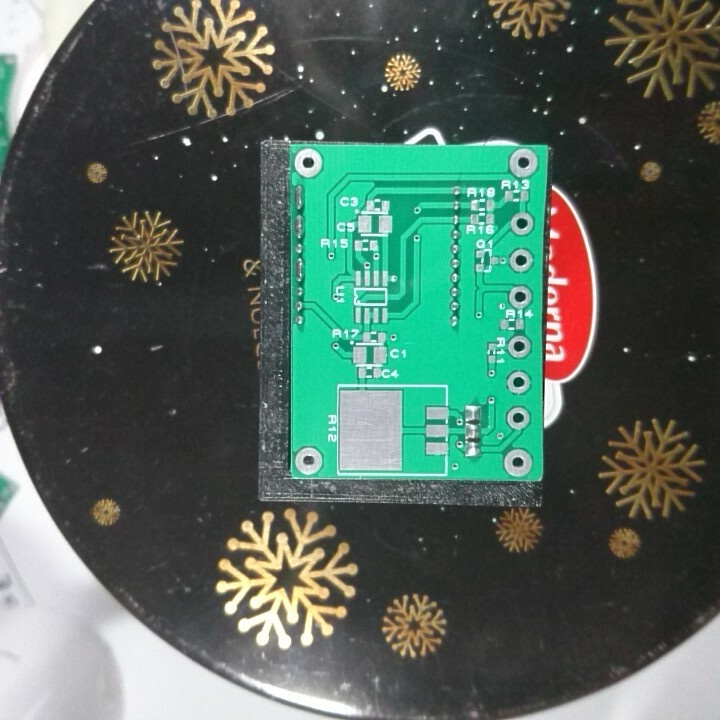F: (292, 146, 326, 181), (502, 446, 534, 480), (508, 147, 539, 178), (292, 446, 325, 475), (505, 368, 534, 397), (508, 248, 537, 276), (507, 283, 534, 310), (506, 334, 533, 361), (509, 210, 535, 238), (504, 406, 533, 430)
P: (291, 182, 309, 212), (292, 212, 306, 241), (294, 256, 308, 283)
